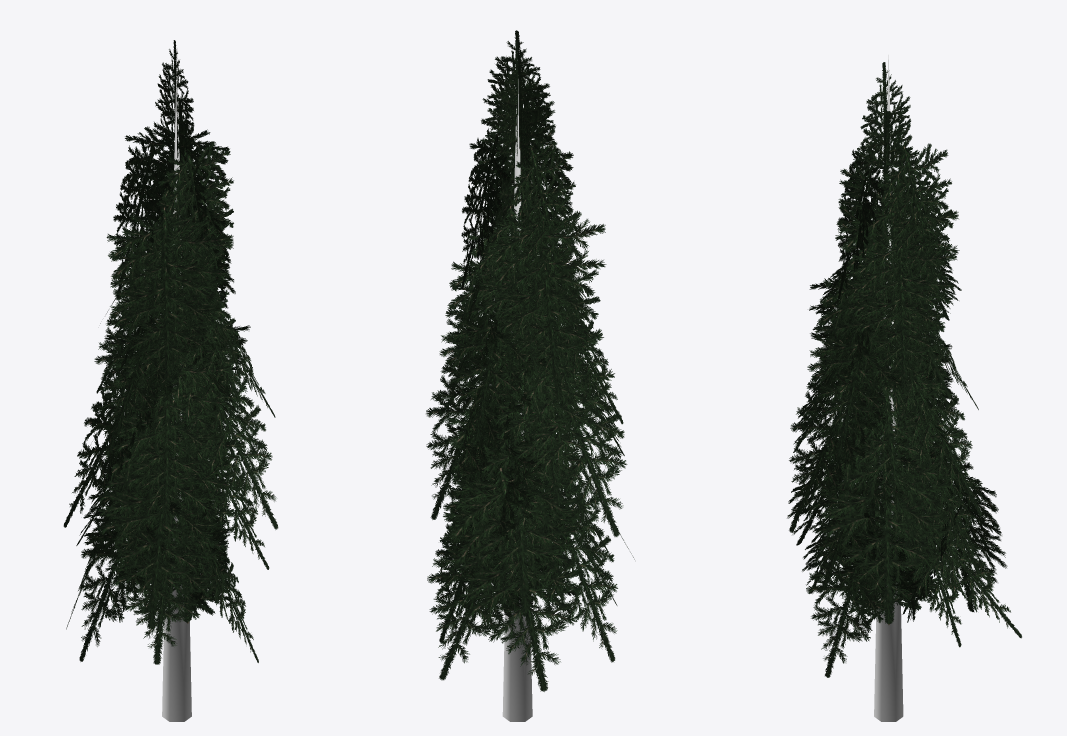
3 views of the same model, side by side, from view 1: azimuth 30°, elevation 25°; view 2: azimuth 150°, elevation 25°; view 3: azimuth 270°, elevation 25° (orthographic).
Parts seen in each view (by area): view 1: leaves.339, leaves.352, leaves.288, leaves.323, Cone; view 2: leaves.339, leaves.288, leaves.352, Cone, leaves.323; view 3: leaves.288, leaves.339, leaves.352, Cone, leaves.323.
Part boxes in pixels (x1,y1,x2,y2): leaves.339: [63, 40, 278, 529]; leaves.352: [79, 400, 269, 664]; leaves.288: [66, 126, 250, 629]; leaves.323: [136, 149, 231, 623]; Cone: [162, 47, 191, 721]; leaves.339: [445, 30, 627, 536]; leaves.288: [426, 128, 592, 691]; leaves.352: [435, 411, 634, 662]; Cone: [502, 60, 532, 721]; leaves.323: [481, 157, 576, 613]; leaves.288: [817, 143, 1021, 638]; leaves.339: [789, 62, 961, 532]; leaves.352: [787, 407, 979, 677]; Cone: [874, 55, 903, 721]; leaves.323: [846, 153, 942, 625].
Bounding box in the file's own units: 8.36 × 9.01 × 20.34.
Materials: 2 (1 with a texture image).
